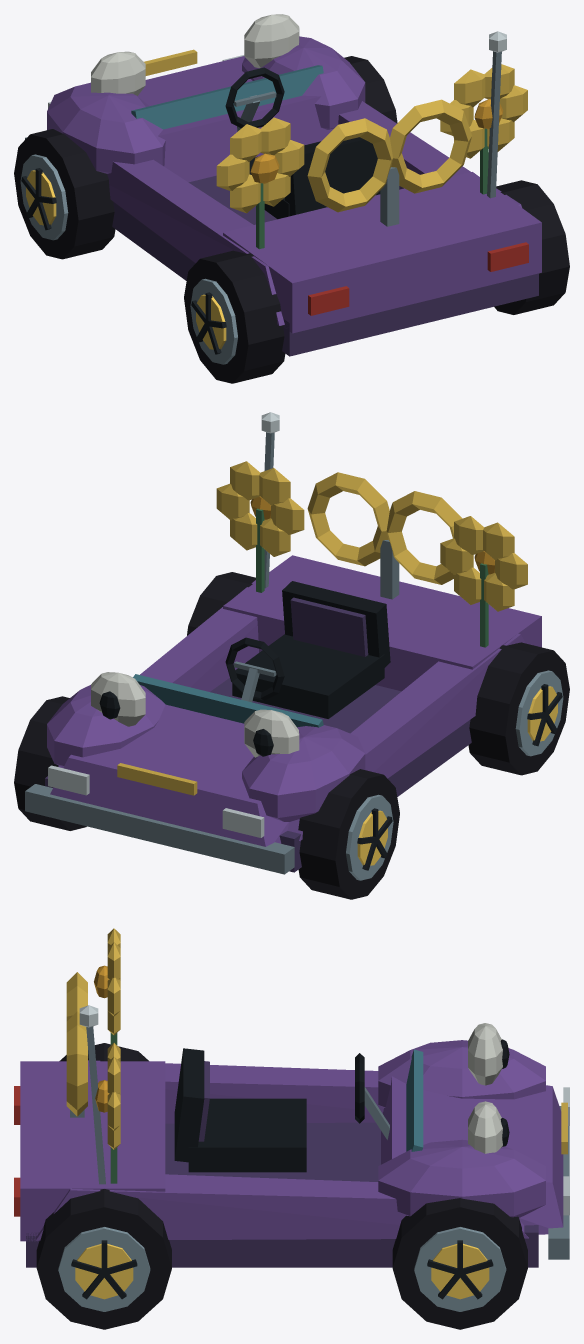
Rendered from kart.glb.
3 renders of one model, top to bottom at view 1: azimuth 30°, elevation 25°; view 2: azimuth 150°, elevation 25°; view 3: azimuth 270°, elevation 25°, orthographic. The views are drawn at different scales.
Visible parts, largest first — view 1: identity-toy-car-toy-rounded-body-and-wind-up-key, identity-toy-car-motif-flowers, wheel-rear-left, wheel-front-left, identity-toy-car-driver-cockpit, identity-toy-car-motif-eyes, wheel-rear-right, identity-toy-car-motif-antenna, wheel-front-right; view 2: identity-toy-car-toy-rounded-body-and-wind-up-key, identity-toy-car-driver-cockpit, identity-toy-car-motif-flowers, wheel-rear-left, wheel-front-left, identity-toy-car-motif-eyes, wheel-front-right, wheel-rear-right, identity-toy-car-motif-antenna; view 3: identity-toy-car-toy-rounded-body-and-wind-up-key, wheel-rear-right, wheel-front-right, identity-toy-car-driver-cockpit, identity-toy-car-motif-flowers, identity-toy-car-motif-eyes, identity-toy-car-motif-antenna, wheel-rear-left.
Boxes of the visible parts, left/top/right/bottom form: identity-toy-car-toy-rounded-body-and-wind-up-key: left=25, top=36, right=541, bottom=356; identity-toy-car-motif-flowers: left=216, top=64, right=527, bottom=249; wheel-rear-left: left=184, top=250, right=285, bottom=383; wheel-front-left: left=14, top=129, right=115, bottom=259; identity-toy-car-driver-cockpit: left=225, top=67, right=380, bottom=219; identity-toy-car-motif-eyes: left=91, top=14, right=299, bottom=95; wheel-rear-right: left=494, top=180, right=569, bottom=314; identity-toy-car-motif-antenna: left=487, top=31, right=506, bottom=198; wheel-front-right: left=344, top=56, right=397, bottom=123; identity-toy-car-toy-rounded-body-and-wind-up-key: left=25, top=472, right=541, bottom=874; identity-toy-car-driver-cockpit: left=225, top=581, right=390, bottom=718; identity-toy-car-motif-flowers: left=216, top=461, right=527, bottom=647; wheel-rear-left: left=468, top=642, right=569, bottom=775; wheel-front-left: left=298, top=769, right=399, bottom=899; identity-toy-car-motif-eyes: left=91, top=672, right=299, bottom=757; wheel-front-right: left=14, top=696, right=86, bottom=830; wheel-rear-right: left=187, top=572, right=255, bottom=635; identity-toy-car-motif-antenna: left=261, top=412, right=279, bottom=588; identity-toy-car-toy-rounded-body-and-wind-up-key: left=14, top=972, right=569, bottom=1267; wheel-rear-right: left=36, top=1189, right=171, bottom=1329; wheel-front-right: left=392, top=1198, right=527, bottom=1329; identity-toy-car-driver-cockpit: left=174, top=1048, right=389, bottom=1172; identity-toy-car-motif-flowers: left=94, top=928, right=120, bottom=1183; identity-toy-car-motif-eyes: left=468, top=1023, right=509, bottom=1153; identity-toy-car-motif-antenna: left=79, top=1005, right=105, bottom=1184; wheel-rear-left: left=59, top=1043, right=148, bottom=1061.
Size of the model in its own units: 2.13 by 1.72 by 2.88.
